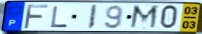0: (159, 4, 180, 31)
9: (104, 4, 125, 30)
F: (22, 3, 50, 30)
I: (86, 4, 98, 30)
L: (50, 5, 70, 28)
M: (128, 4, 161, 31)
